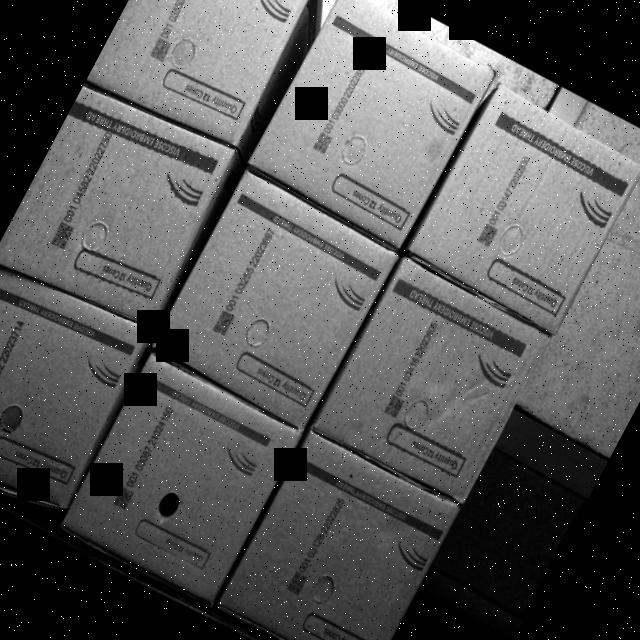box: (0, 70, 244, 342), (148, 168, 398, 426), (59, 348, 307, 606), (247, 0, 497, 248), (309, 256, 552, 506), (408, 87, 640, 328), (216, 425, 463, 640), (0, 254, 150, 521), (86, 0, 328, 155)
